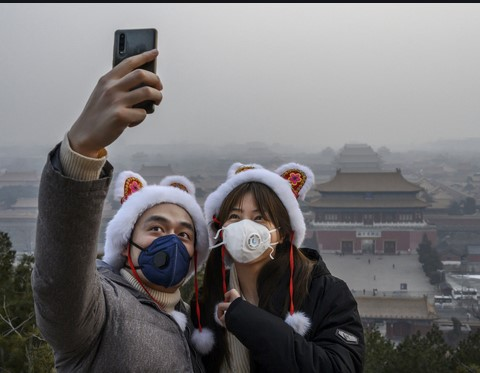face_with_mask: (124, 200, 197, 291), (217, 184, 290, 267)
